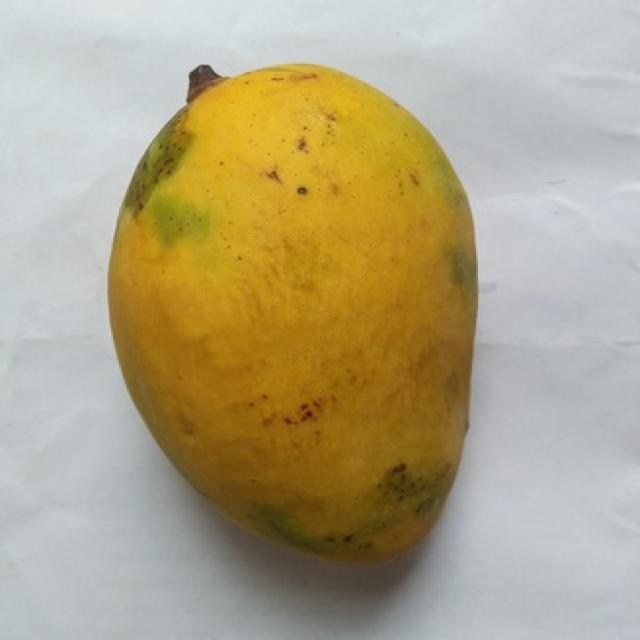Mango: (109, 64, 476, 559)
